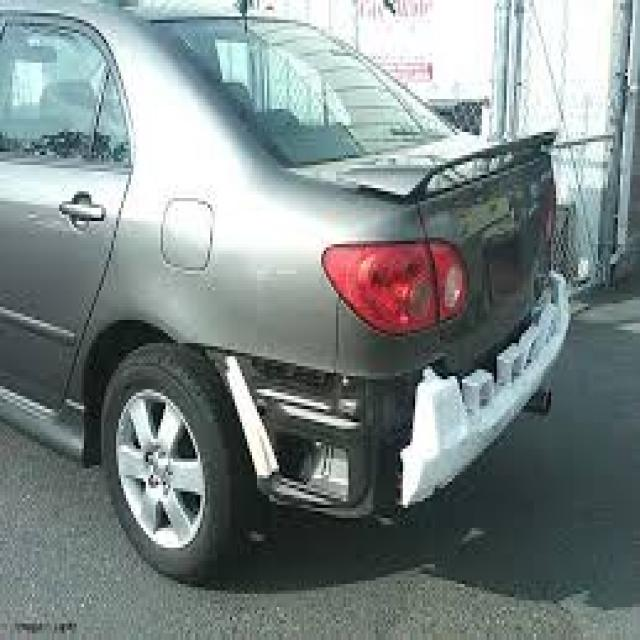minor: (203, 281, 590, 543)
